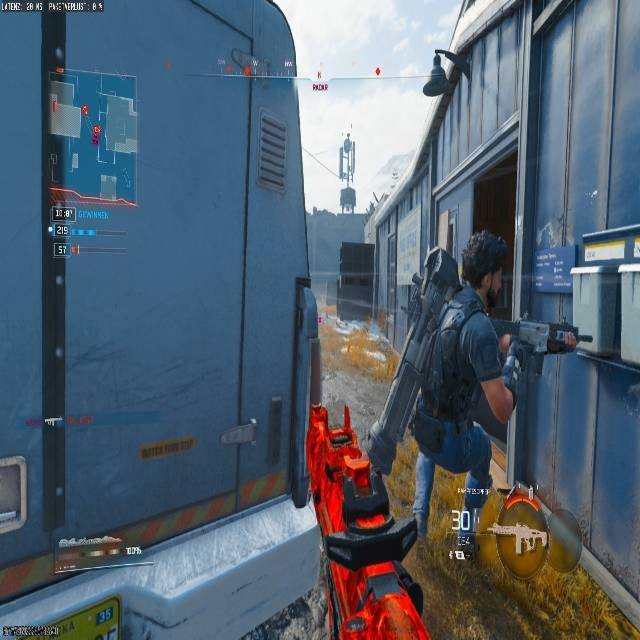head: (460, 229, 509, 315)
player: (405, 229, 580, 576)
